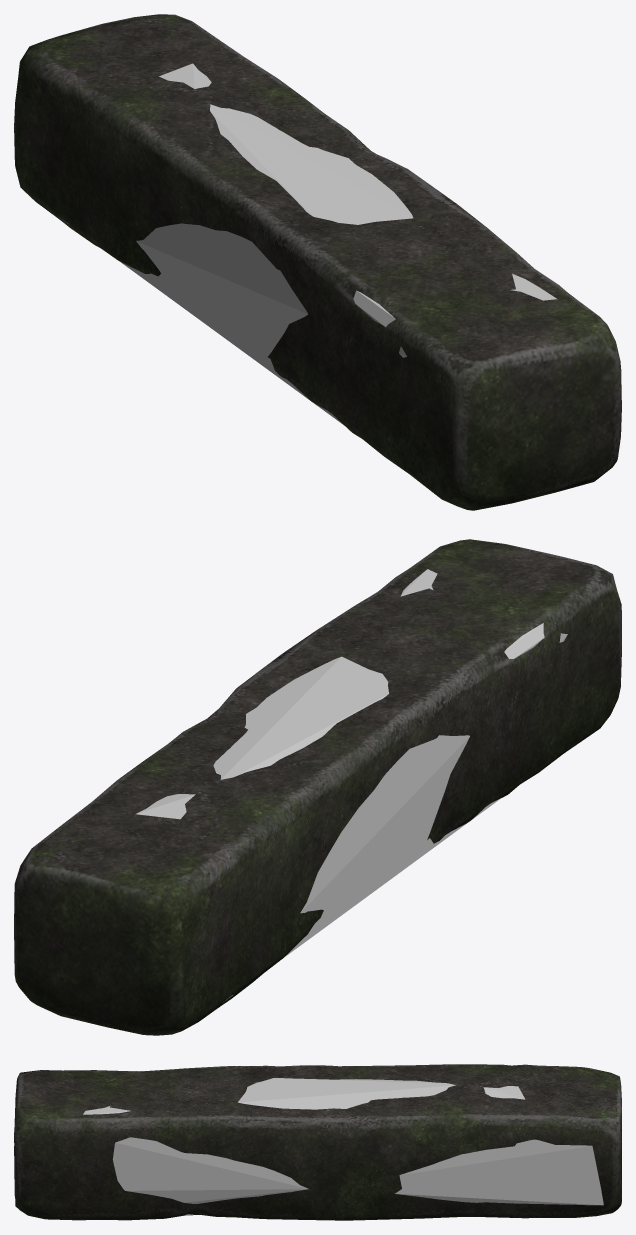
Rendered from SM_stone.fbx.
3 views of the same model, one above another, from view 1: azimuth 30°, elevation 25°; view 2: azimuth 150°, elevation 25°; view 3: azimuth 270°, elevation 25° (orthographic). The views are drawn at different scales.
Parts seen in each view (by area): view 1: SM_stone, SM_stone_ConvexHulls; view 2: SM_stone, SM_stone_ConvexHulls; view 3: SM_stone, SM_stone_ConvexHulls.
Part boxes in pixels (x1,y1,x2,y2): SM_stone: (14, 14, 621, 510); SM_stone_ConvexHulls: (59, 63, 557, 424); SM_stone: (14, 539, 621, 1035); SM_stone_ConvexHulls: (135, 569, 567, 1000); SM_stone: (14, 1064, 621, 1220); SM_stone_ConvexHulls: (83, 1071, 603, 1214).
Size of the model in its own units: 35.13 by 156 by 30.57.
